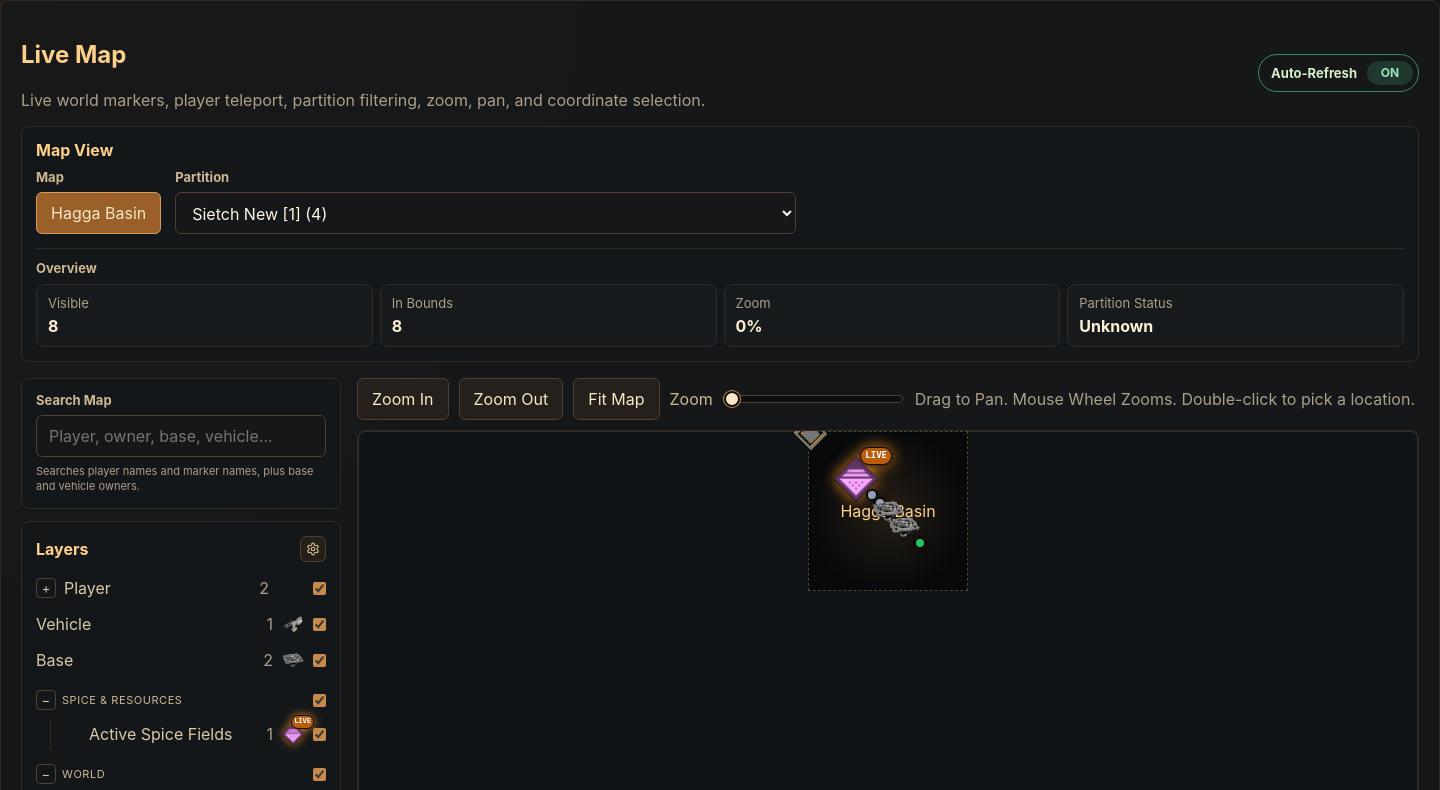
Test: filters map markers by player, marker, and owner names
The image size is (1440, 790).
Type "Chani" into the search field labelled "Search Map" at (181, 436), box left=36, top=415, right=326, bottom=457
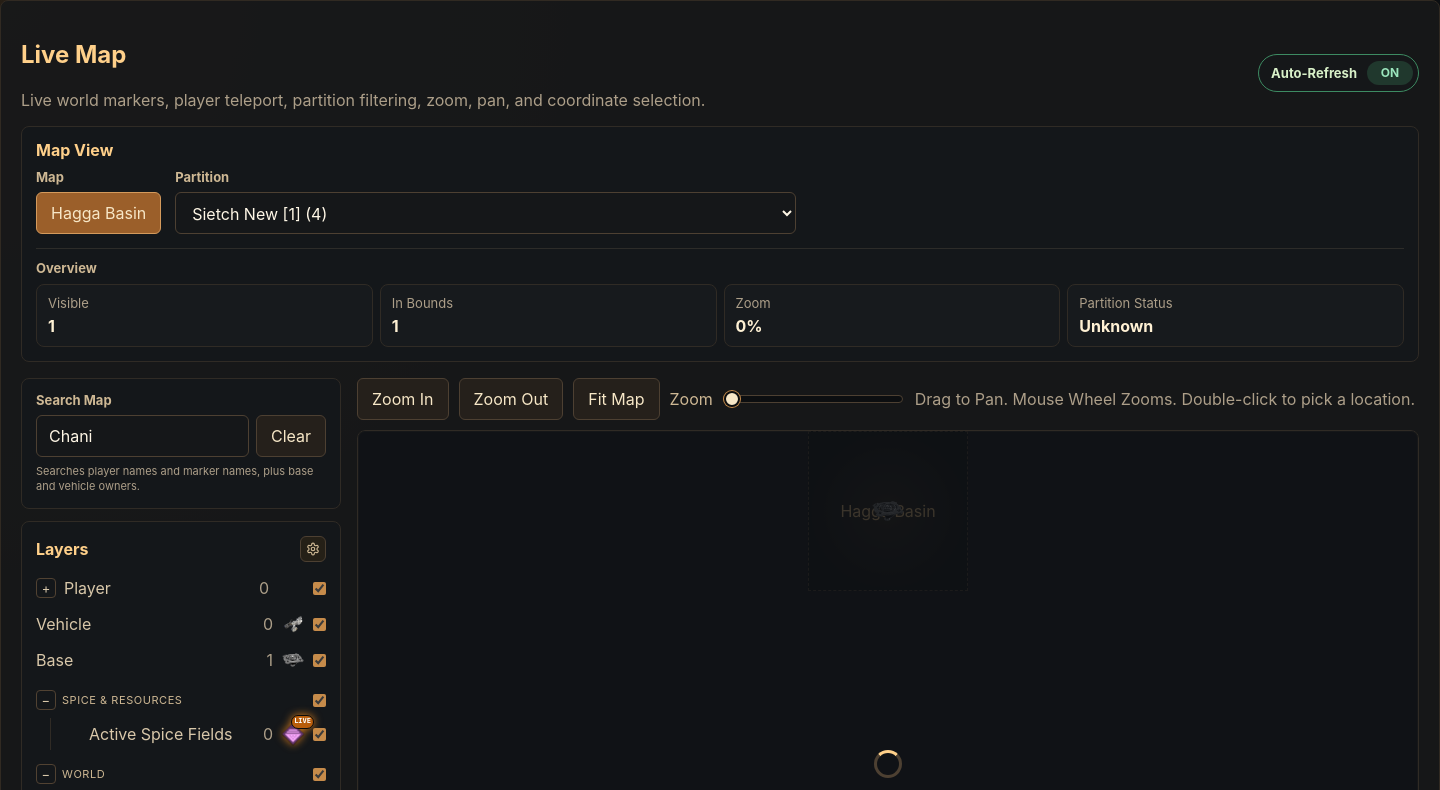
Check: the button named "Base: Desert Home" is shown, box left=870, top=493, right=906, bottom=529
Check: the button "Vehicle: Sandbike" is gone
Replace the text in the search field labelled "Search Map" with "Stilgar" at (142, 436), box left=36, top=415, right=249, bottom=457
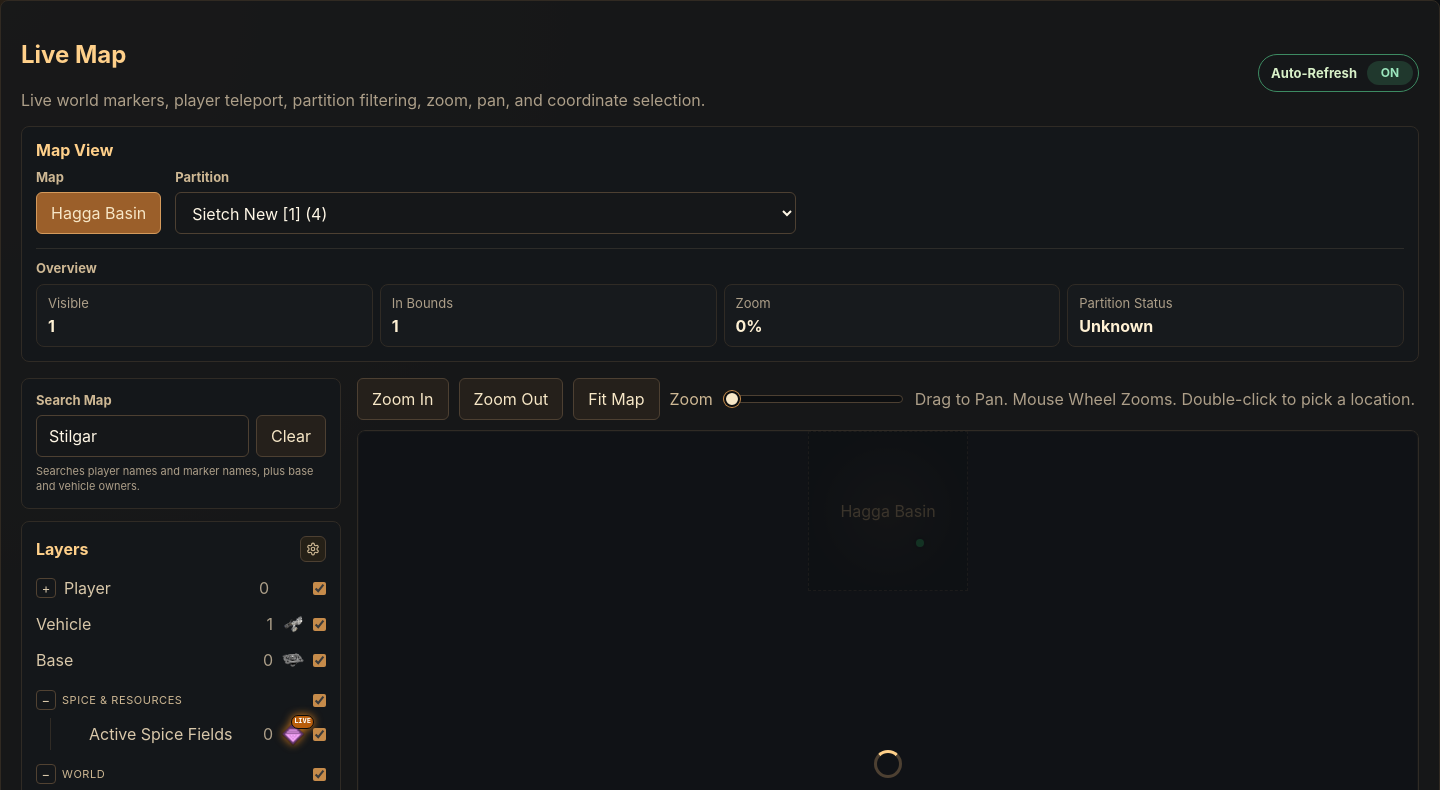
Check: the button named "Vehicle: Sandbike" is shown, box left=914, top=537, right=926, bottom=549
Click the button "Clear" at (291, 436), box left=256, top=415, right=326, bottom=457
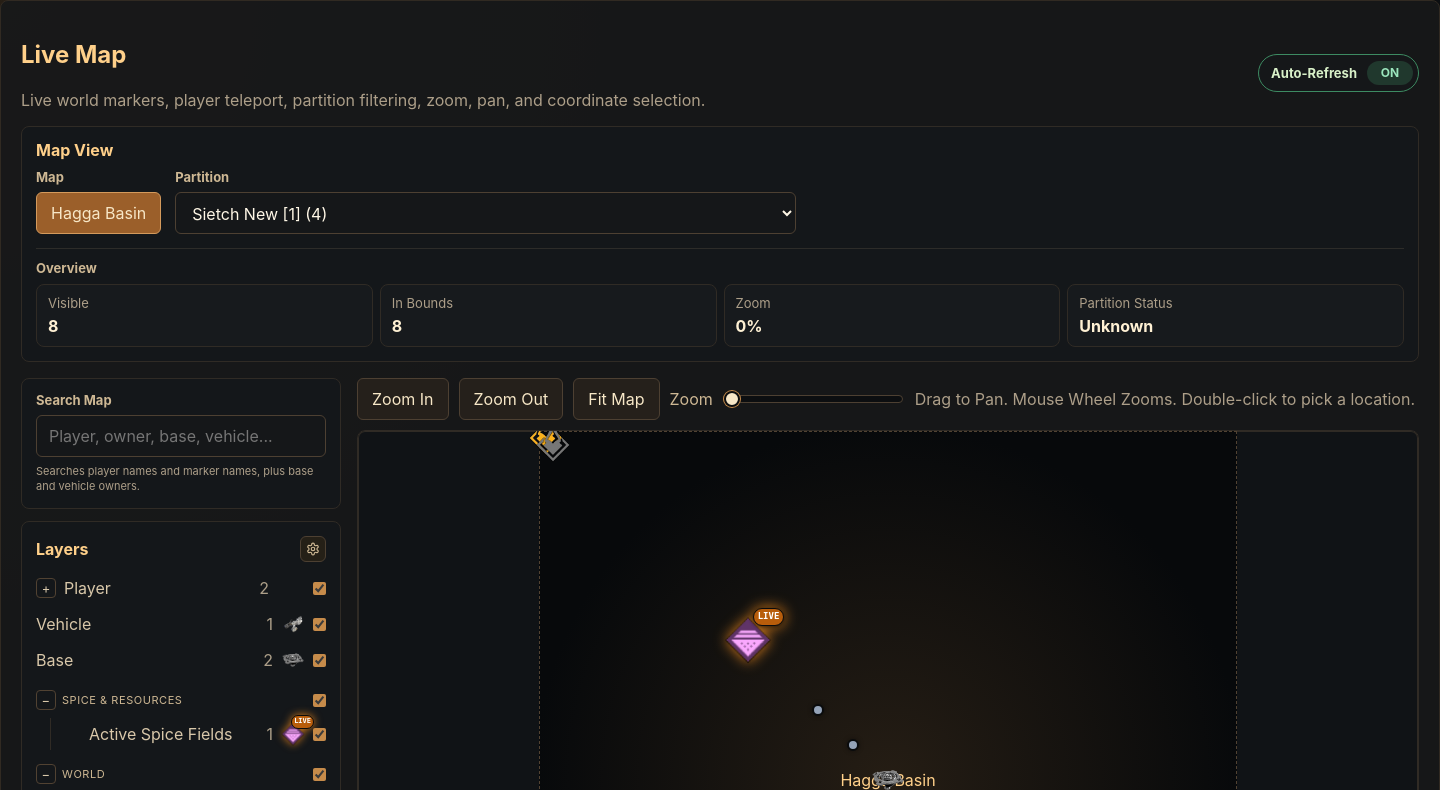
Check: the button named "Player: Liet" is shown, box left=528, top=430, right=564, bottom=456
